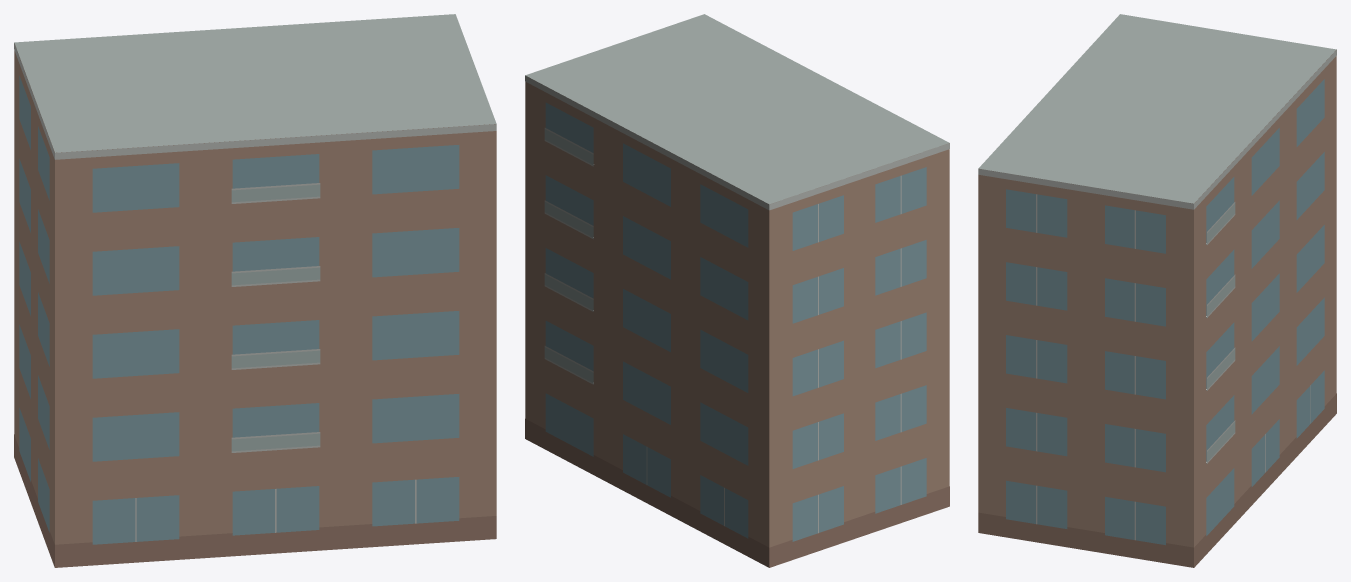
The model's file is survey-upis-33018222.glb.
3 views of the same model, side by side, from view 1: azimuth 30°, elevation 25°; view 2: azimuth 150°, elevation 25°; view 3: azimuth 270°, elevation 25° (orthographic). The views are drawn at different scales.
Visible parts, largest first — view 1: survey-upis-33018222.tmp; view 2: survey-upis-33018222.tmp; view 3: survey-upis-33018222.tmp.
Boxes of the visible parts, box(x1,y1,x2,y2) form: survey-upis-33018222.tmp: box(14, 14, 496, 567); survey-upis-33018222.tmp: box(525, 14, 949, 567); survey-upis-33018222.tmp: box(978, 14, 1336, 567).
Size of the model in its own units: 16.2 by 14.5 by 12.94.
